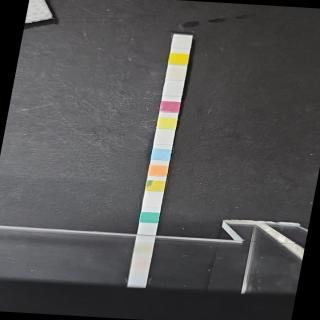mark: (157, 117, 176, 129), (159, 101, 178, 112), (147, 181, 164, 193), (150, 164, 167, 176), (153, 149, 170, 161), (164, 85, 181, 97), (140, 212, 158, 223), (175, 37, 191, 49), (170, 53, 188, 63), (168, 70, 184, 81), (155, 134, 172, 144), (144, 198, 160, 208)
